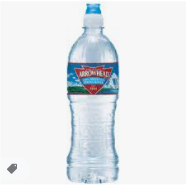Bottle: (68, 4, 120, 184)
